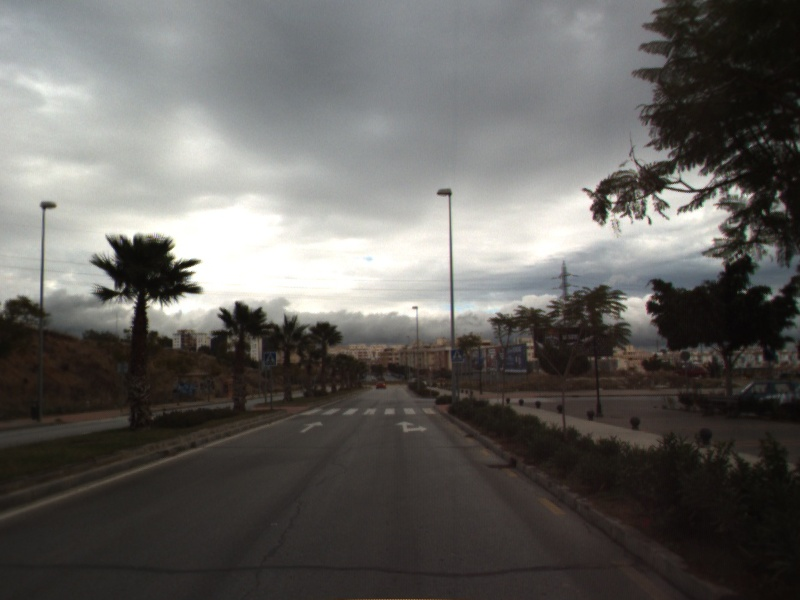STRAIGHT: (298, 419, 325, 435)
STRAIGHT_RIGHT: (393, 419, 429, 434)
